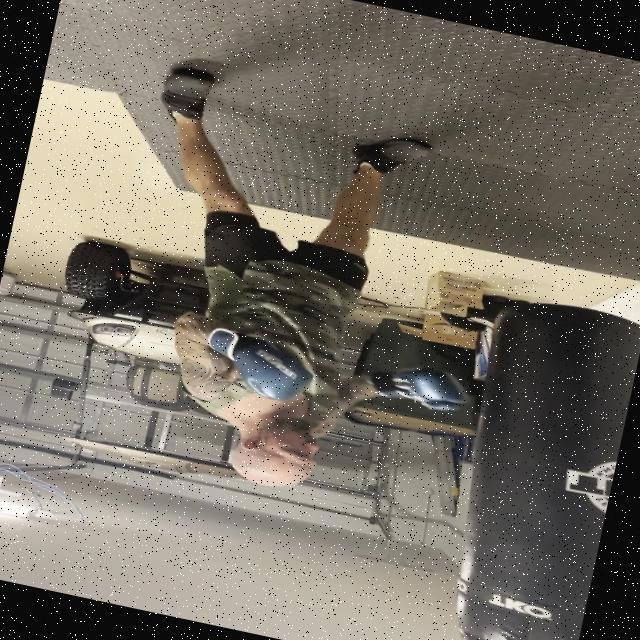bag: (429, 291, 640, 640)
hook: (127, 288, 496, 578)
